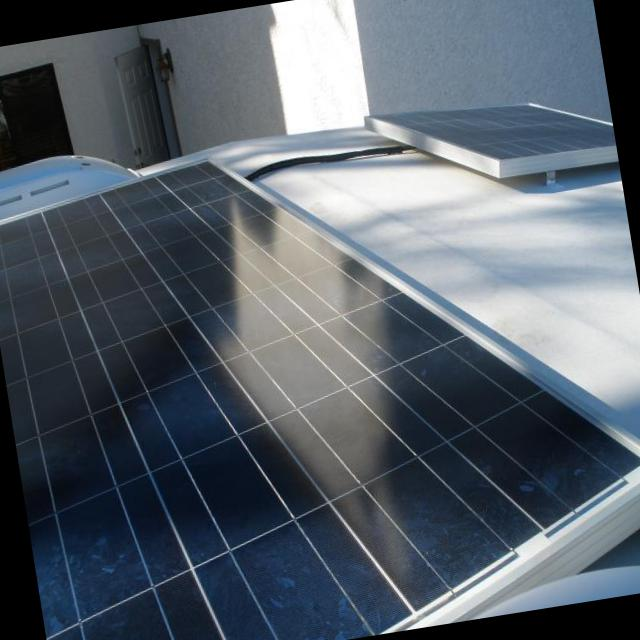no faulty: (0, 160, 640, 640), (380, 110, 611, 161)
